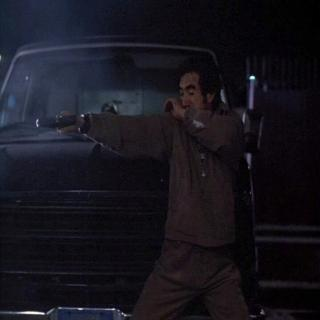gun: (33, 98, 83, 145)
